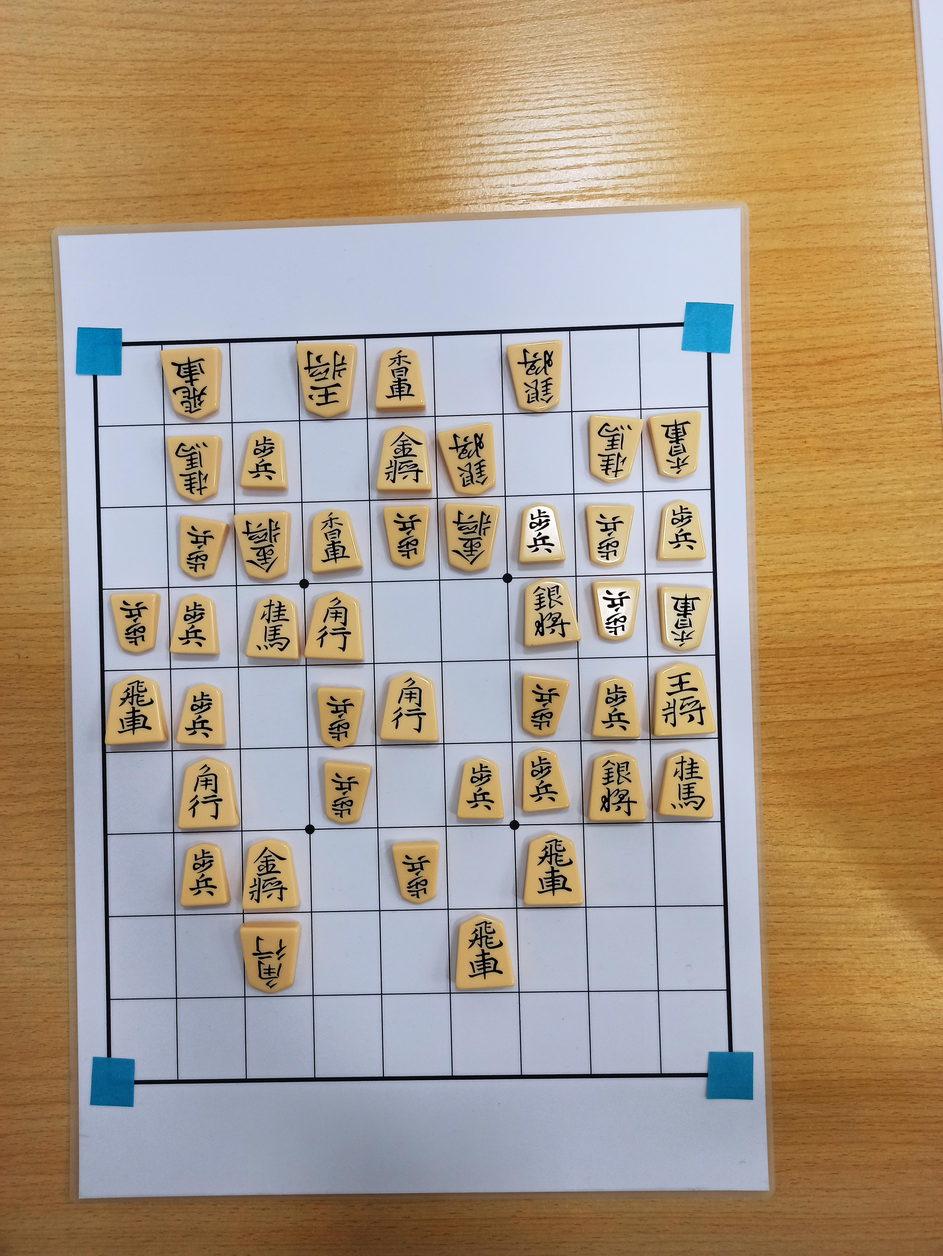board: (94, 324, 734, 1084)
